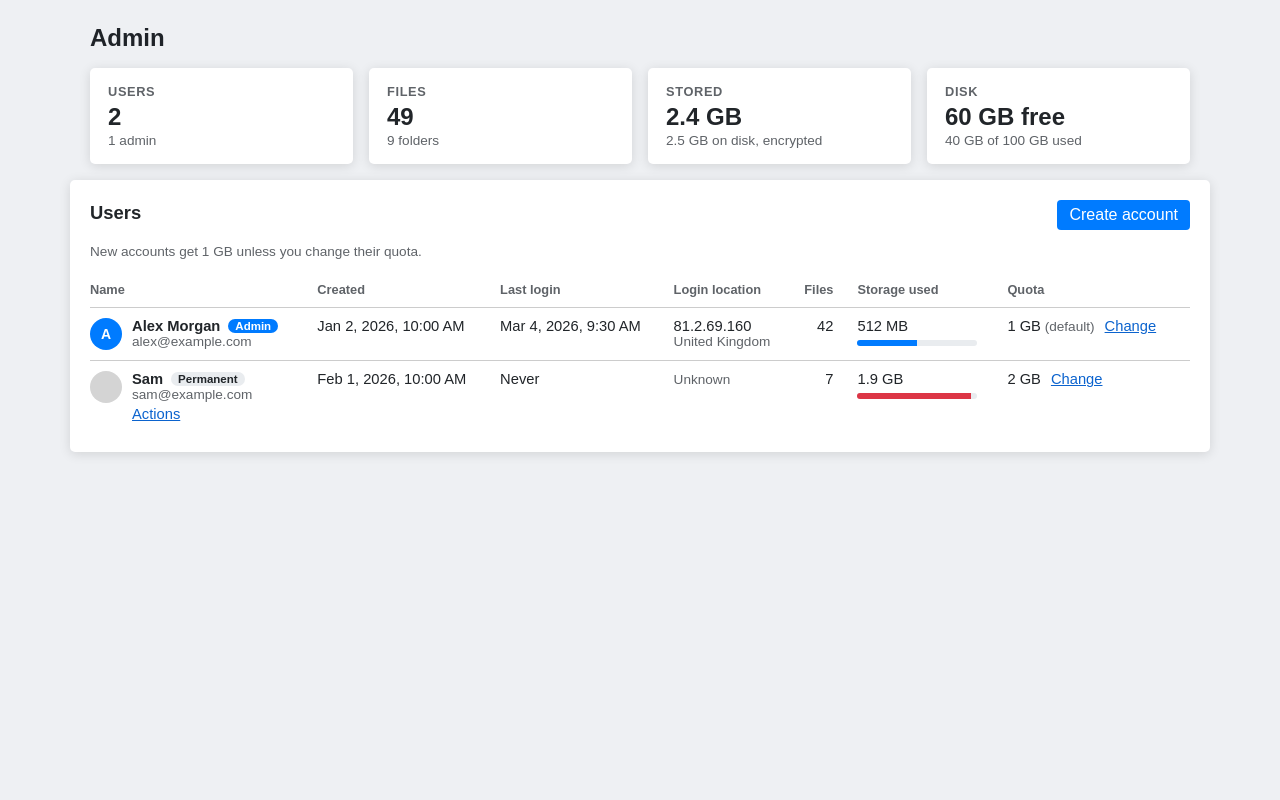
Admin page › set password › only enables Set password once the password meets the rules
Click the button with aria-label "Actions for sam@example.com".
click(156, 414)  # box [132,406,180,422]
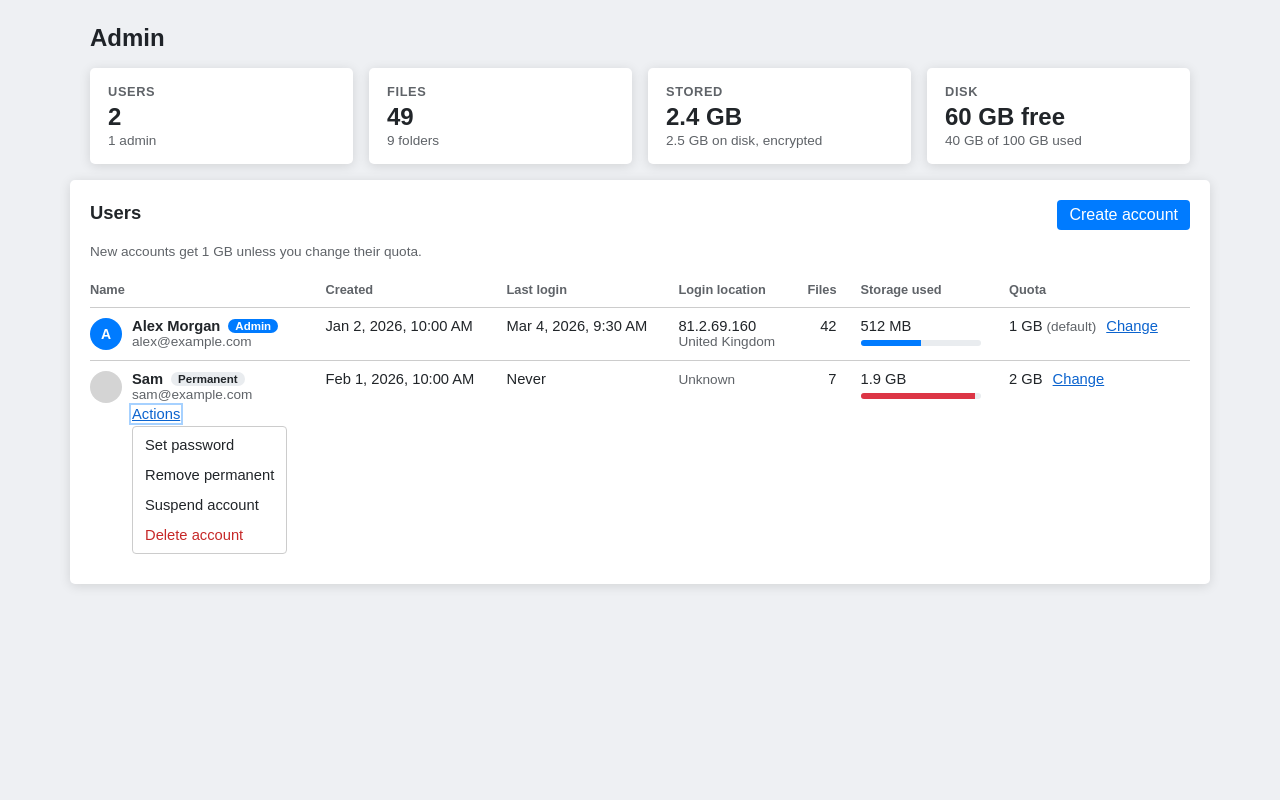
Click the menu item "Set password".
click(190, 445)  # box [137,431,242,459]
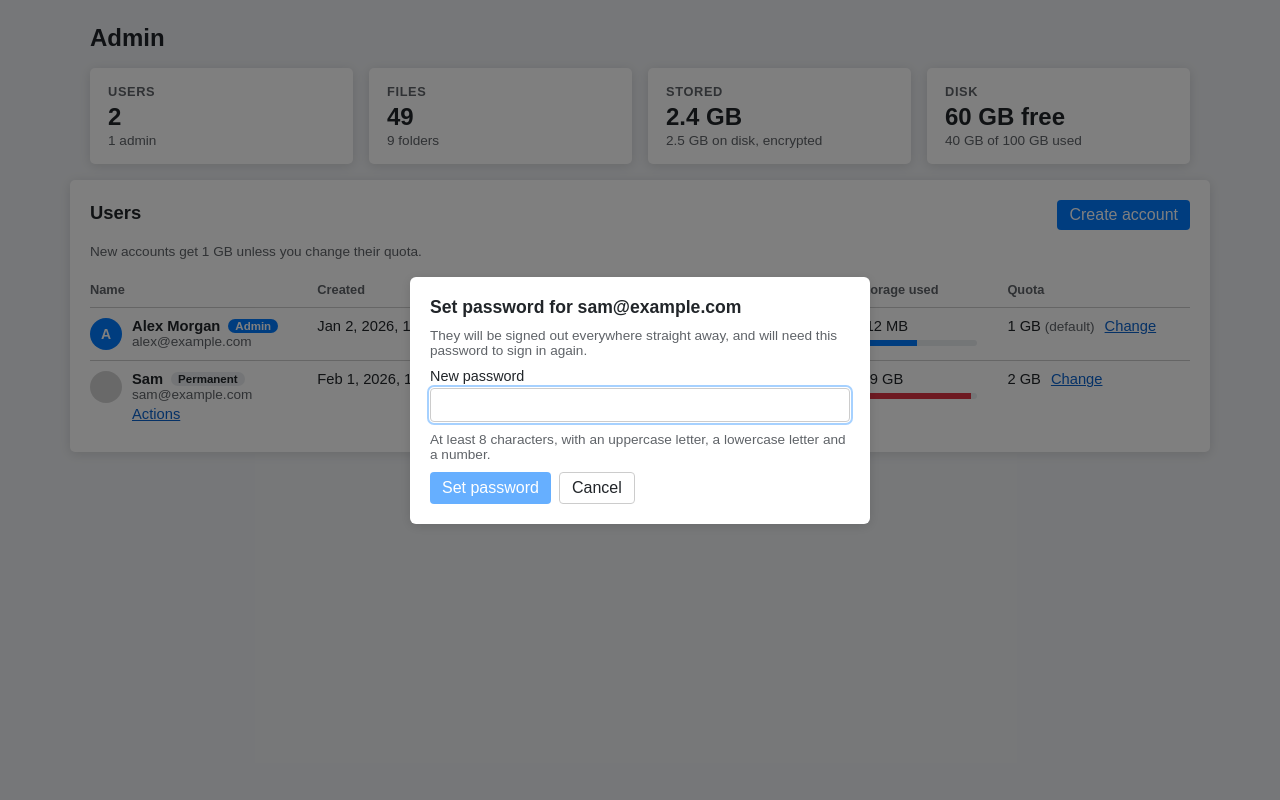
Expected: the button "Set password" is disabled, [430,472,551,504]
Type "weak" into the password field labelled "New password".
click(640, 404); type("weak")  # box [430,388,850,422]
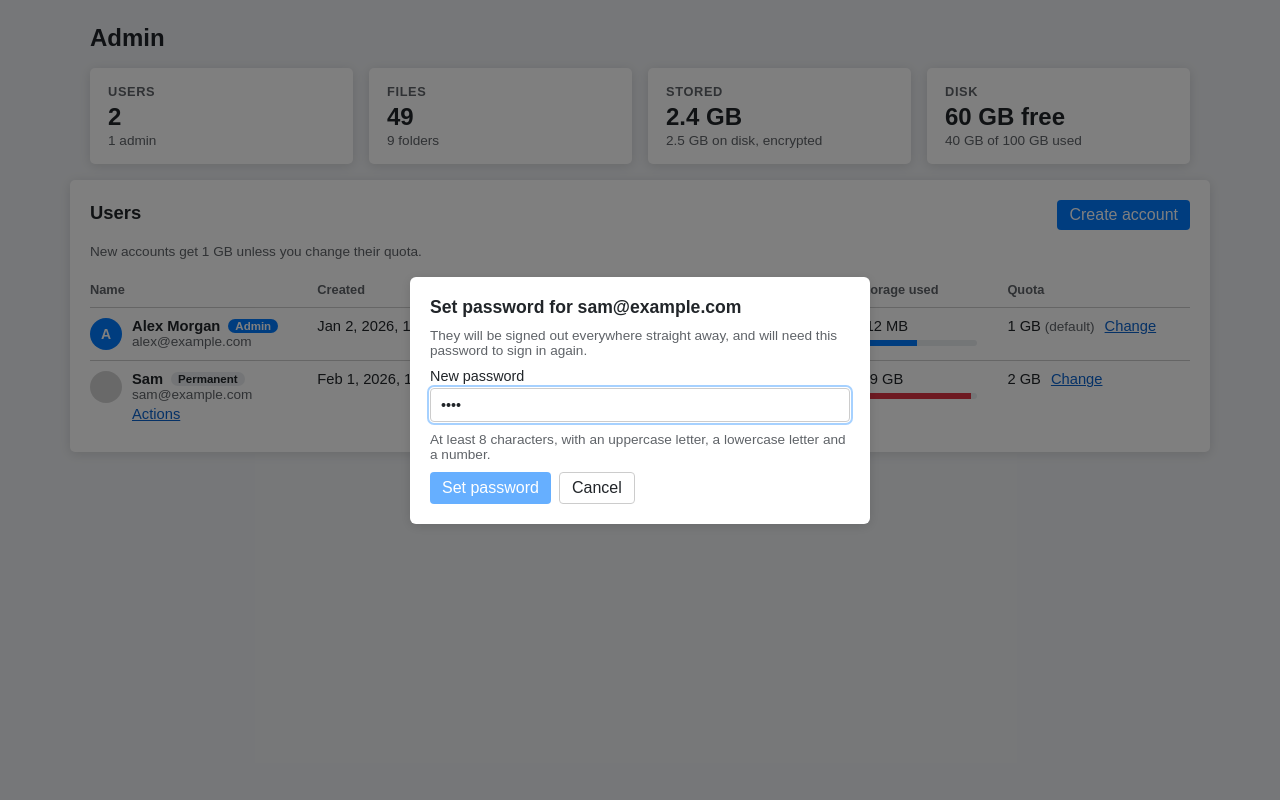
Expected: the button "Set password" is disabled, [430,472,551,504]
Type "N3wPassword" into the password field labelled "New password".
click(640, 404); type("N3wPassword")  # box [430,388,850,422]
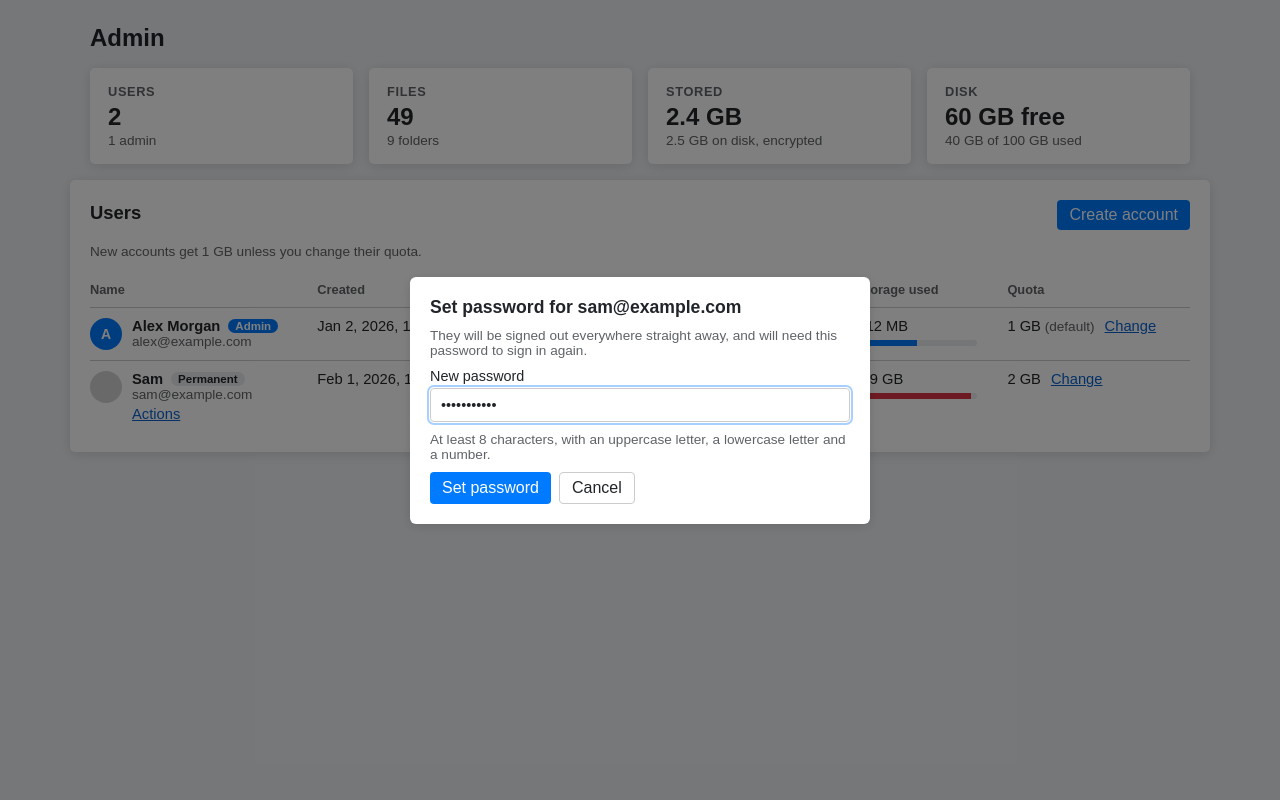
Expected: the button "Set password" is enabled, [430,472,551,504]
